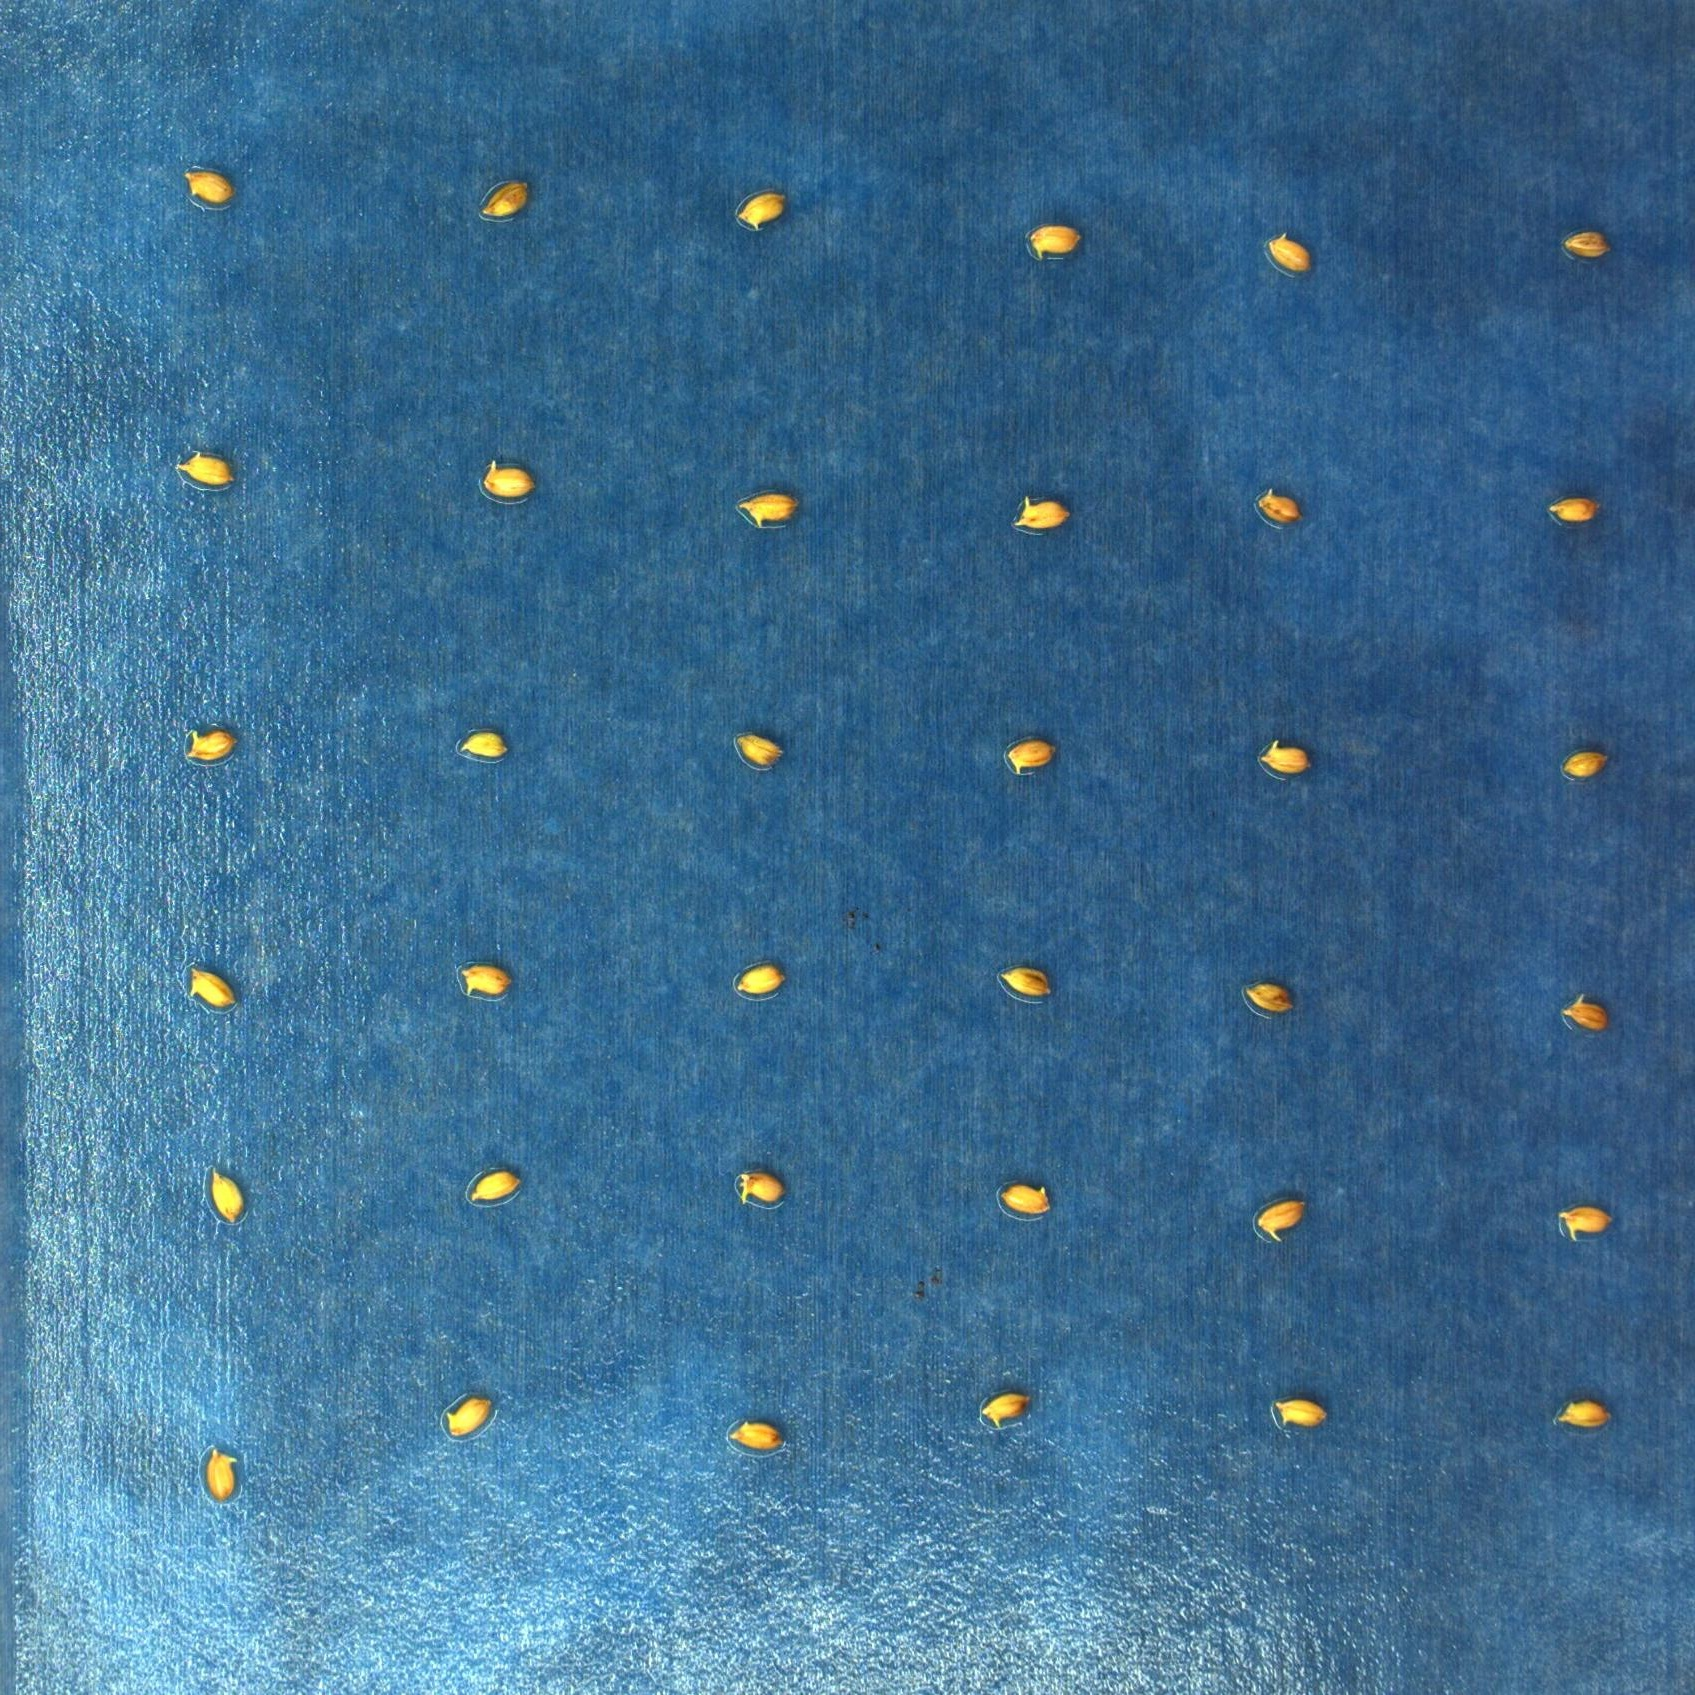not sprout: (1551, 1206, 1622, 1243), (182, 163, 234, 211), (444, 1392, 497, 1440), (736, 723, 785, 768), (1256, 1198, 1305, 1243), (1024, 219, 1087, 255), (1267, 1394, 1329, 1430), (1003, 737, 1062, 775), (179, 452, 233, 490), (192, 962, 237, 1009), (739, 189, 789, 231), (1245, 973, 1295, 1015), (737, 494, 804, 525), (1562, 990, 1613, 1031), (203, 1445, 244, 1496), (470, 1167, 525, 1205), (1256, 742, 1315, 776), (483, 463, 536, 500), (992, 1180, 1049, 1214), (731, 964, 785, 1000), (478, 182, 529, 219), (213, 1163, 245, 1220), (737, 1170, 787, 1208), (1268, 230, 1312, 272), (976, 1392, 1028, 1426), (1554, 1399, 1616, 1426), (1548, 487, 1600, 520), (459, 961, 512, 993), (185, 726, 233, 762), (1565, 748, 1613, 782), (453, 730, 508, 759), (1000, 965, 1054, 995), (1256, 484, 1299, 520), (1014, 498, 1073, 523), (1555, 230, 1613, 255), (730, 1420, 775, 1442)
